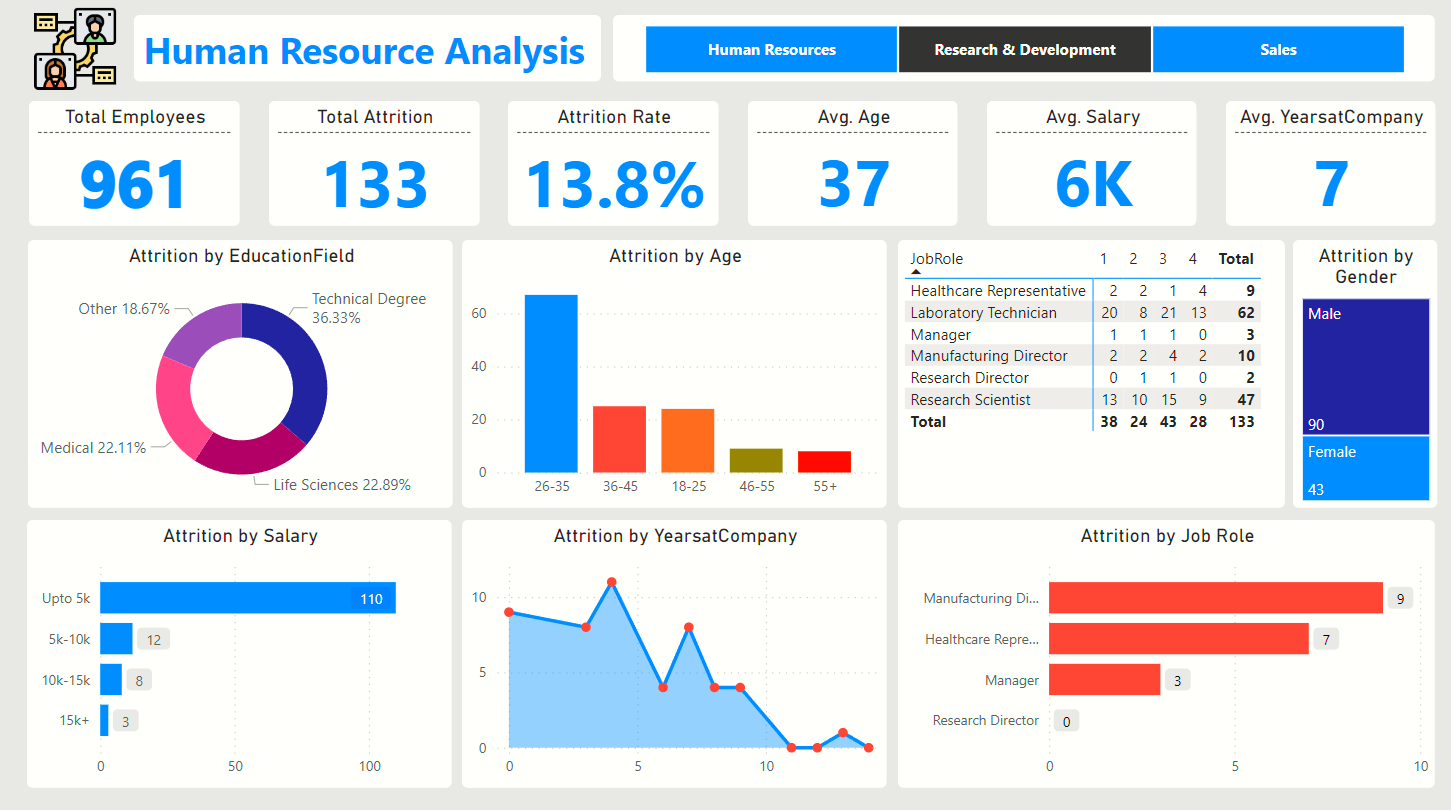

This screenshot's page, from the dashboard's own definition file:
{"tool":"powerbi","page":{"name":"Page 1","canvas":[1280,720],"ordinal":0},"visuals":[{"type":"card","title":"Total Employees","fields":{"Values":["Sum(HR_Analytics.EmployeeCount)"]},"box":[34.2,92.3,183.7,109.4],"z":0},{"type":"card","title":"Total Attrition","fields":{"Values":["Sum(HR_Analytics.AttritionCount)"]},"box":[243.4,92.3,183.7,109.4],"z":1000},{"type":"card","title":"Attrition Rate","fields":{"Values":["HR_Analytics.AttritionRate"]},"box":[452.7,92.4,183.7,109.4],"z":2000},{"type":"card","title":"Avg. Age","fields":{"Values":["Avg(HR_Analytics.Age)"]},"box":[661.9,92.6,183.5,109.2],"z":3000},{"type":"card","title":"Avg. Salary","fields":{"Values":["Avg(HR_Analytics.MonthlyIncome)"]},"box":[870.9,92.6,183.5,109.2],"z":4000},{"type":"card","title":"Avg. YearsatCompany","fields":{"Values":["Avg(HR_Analytics.YearsAtCompany)"]},"box":[1079.9,92.6,182.6,109.2],"z":5000},{"type":"donutChart","fields":{"Y":["Avg(HR_Analytics.AttritionCount)"],"Category":["HR_Analytics.EducationField"]},"box":[33.1,214.1,371.3,234.2],"z":6000},{"type":"clusteredColumnChart","title":"Attrition by Age","fields":{"Category":["HR_Analytics.AgeGroup"],"Y":["Sum(HR_Analytics.AttritionCount)"]},"box":[412.3,214.1,371.3,234.2],"z":7000},{"type":"pivotTable","fields":{"Columns":["HR_Analytics.JobSatisfaction"],"Values":["Sum(HR_Analytics.AttritionCount)"],"Rows":["HR_Analytics.JobRole"]},"box":[793.3,214.1,338.1,234.2],"z":8000},{"type":"clusteredBarChart","title":"Attrition by Salary","fields":{"Category":["HR_Analytics.SalarySlab"],"Y":["Sum(HR_Analytics.AttritionCount)"]},"box":[32.3,458.7,371.3,234.2],"z":9000},{"type":"areaChart","title":"Attrition by YearsatCompany","fields":{"Category":["HR_Analytics.YearsAtCompany"],"Y":["Sum(HR_Analytics.AttritionCount)"]},"box":[412.4,458.7,371.3,234.2],"z":10000},{"type":"barChart","title":"Attrition by Job Role","fields":{"Category":["HR_Analytics.JobRole"],"Y":["Sum(HR_Analytics.AttritionCount)"]},"box":[793.3,458.7,469.2,234.2],"z":11000},{"type":"treemap","title":"Attrition by Gender","fields":{"Group":["HR_Analytics.Gender"],"Values":["Sum(HR_Analytics.AttritionCount)"]},"box":[1138.5,214.1,125.8,234.2],"z":12000},{"type":"image","box":[32.3,0,83.9,92.6],"z":12001},{"type":"textbox","box":[125.8,17.5,408,57.7],"z":12003},{"type":"slicer","fields":{"Values":["HR_Analytics.Department"]},"box":[544.3,17.5,718.2,57.7],"z":12004}]}

Visuals, with their boxes in screenshot pixels (x1, y1, x2, y2), scaled from the page's 1280x720 canvas onto the 1451x810 screenshot:
"Total Employees" card: x1=39 y1=104 x2=247 y2=227
"Total Attrition" card: x1=276 y1=104 x2=484 y2=227
"Attrition Rate" card: x1=513 y1=104 x2=721 y2=227
"Avg. Age" card: x1=750 y1=104 x2=958 y2=227
"Avg. Salary" card: x1=987 y1=104 x2=1195 y2=227
"Avg. YearsatCompany" card: x1=1224 y1=104 x2=1431 y2=227
donutChart - Avg(HR_Analytics.AttritionCount) x HR_Analytics.EducationField: x1=38 y1=241 x2=458 y2=504
"Attrition by Age" clusteredColumnChart: x1=467 y1=241 x2=888 y2=504
pivotTable - HR_Analytics.JobSatisfaction x Sum(HR_Analytics.AttritionCount): x1=899 y1=241 x2=1283 y2=504
"Attrition by Salary" clusteredBarChart: x1=37 y1=516 x2=458 y2=780
"Attrition by YearsatCompany" areaChart: x1=467 y1=516 x2=888 y2=780
"Attrition by Job Role" barChart: x1=899 y1=516 x2=1431 y2=780
"Attrition by Gender" treemap: x1=1291 y1=241 x2=1433 y2=504
image: x1=37 y1=0 x2=132 y2=104
textbox: x1=143 y1=20 x2=605 y2=85
slicer - HR_Analytics.Department: x1=617 y1=20 x2=1431 y2=85
